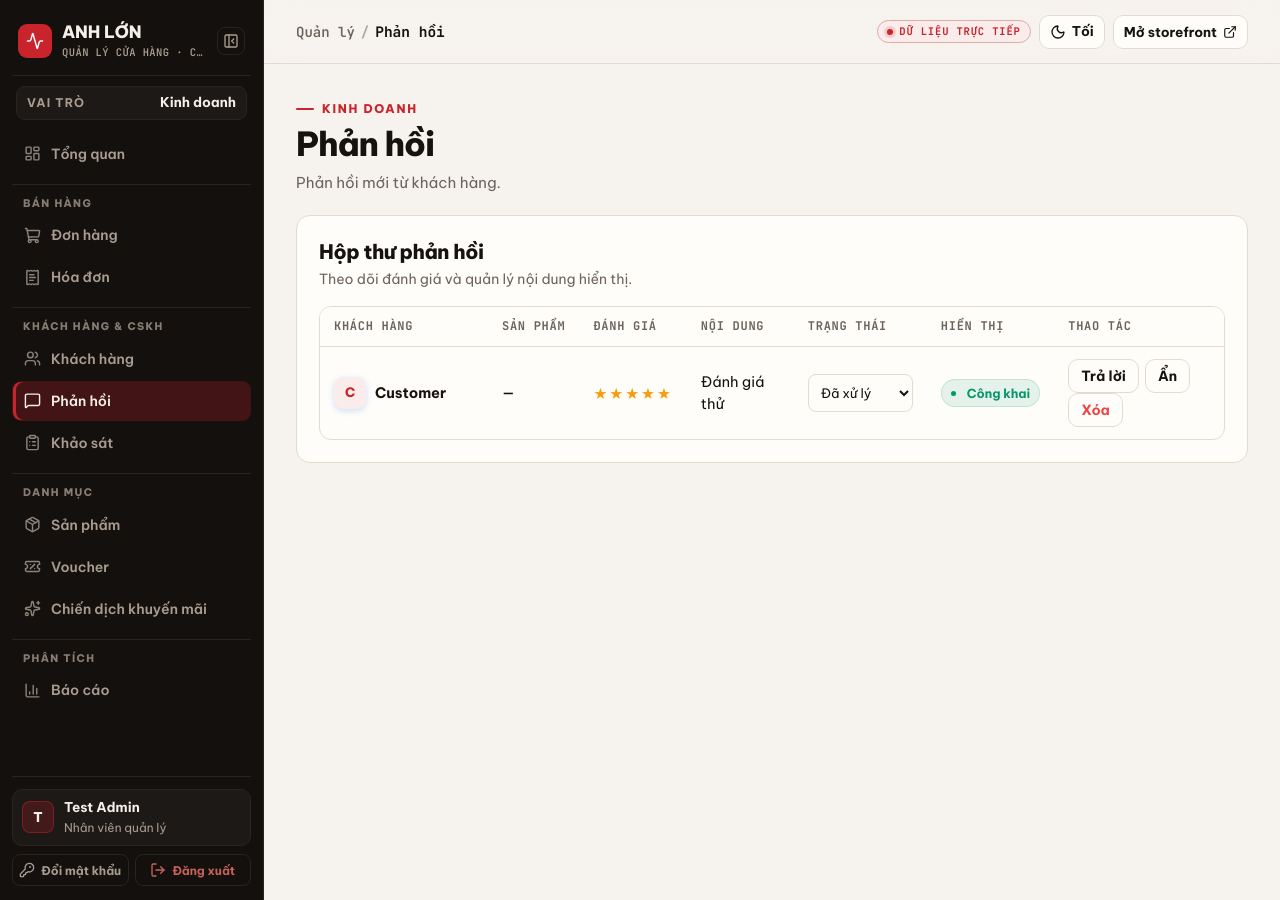
Test: manager navigation › hides and restores feedback without changing its processing status
What coordinates should you click on to do the following:
click the button "Ẩn"
I would click on:
 (1168, 376)
Its box is left=1145, top=359, right=1190, bottom=393.
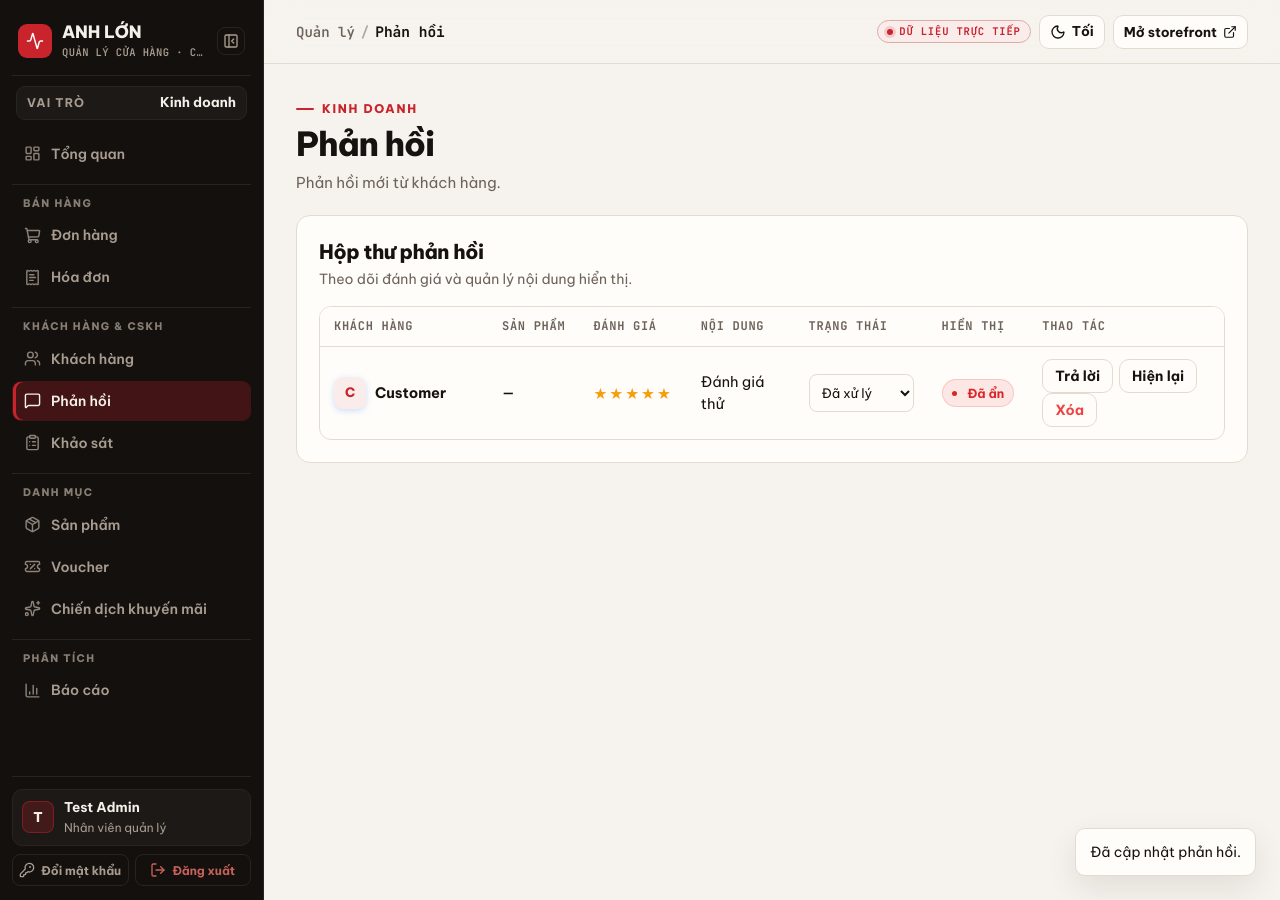
Expected: the dropdown named "Trạng thái phản hồi 7" shows "Đã xử lý", left=808, top=374, right=914, bottom=412
Expected: the text "Đã ẩn" is shown, left=942, top=379, right=1014, bottom=407
What coordinates should you click on to do the following:
click the button "Hiện lại"
I would click on:
 (1158, 376)
Its box is left=1119, top=359, right=1197, bottom=393.
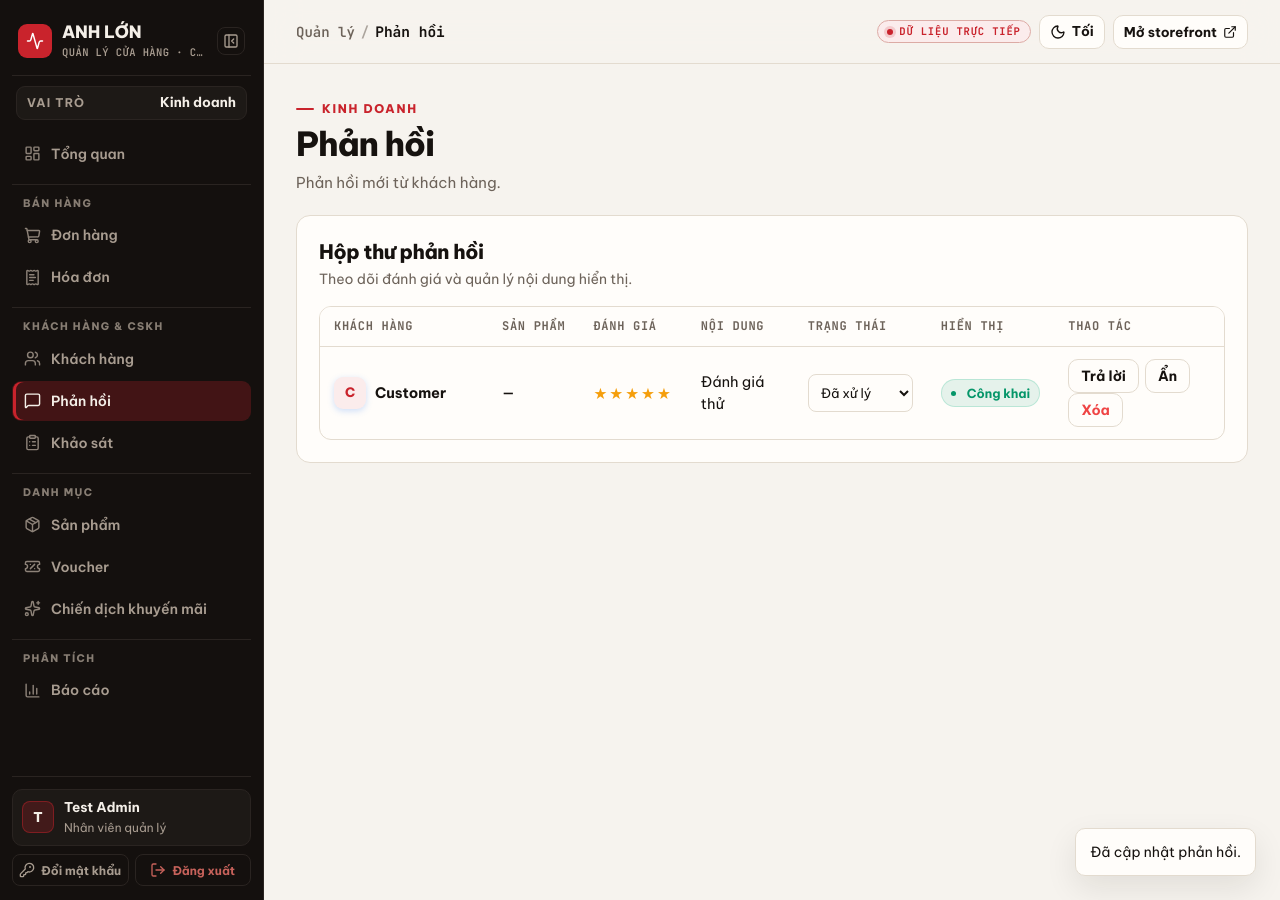
Expected: the text "Công khai" is shown, left=941, top=379, right=1040, bottom=407
